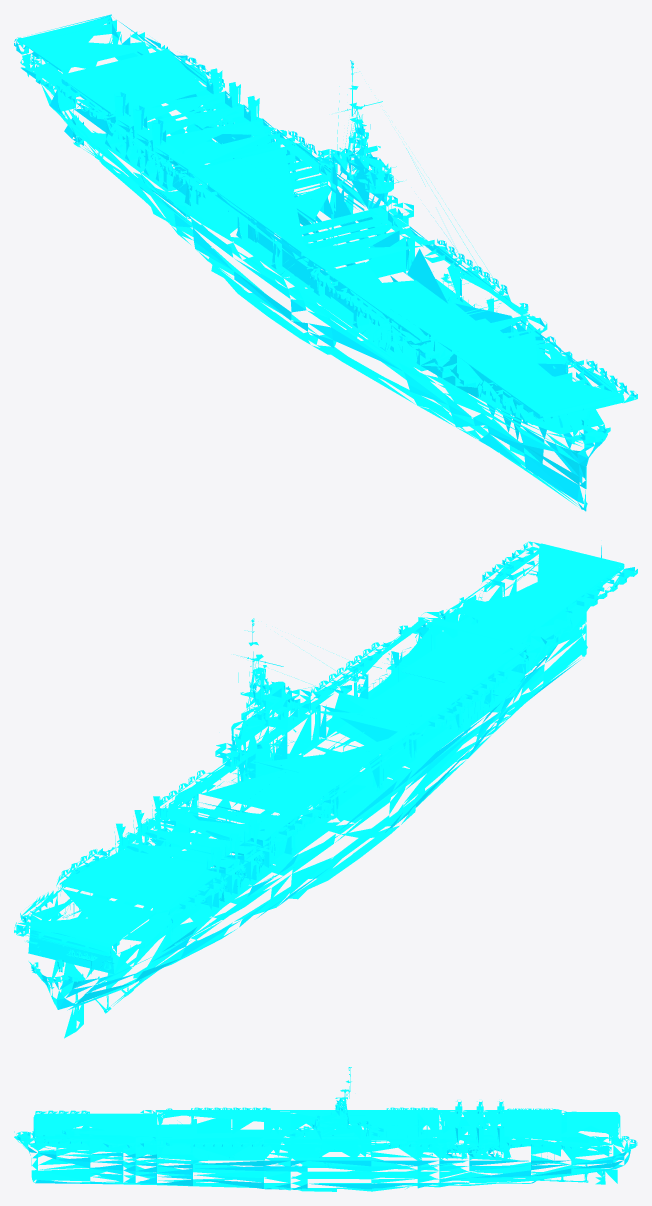
Rendered from Ranger.glb.
3 views of the same model, one above another, from view 1: azimuth 30°, elevation 25°; view 2: azimuth 150°, elevation 25°; view 3: azimuth 270°, elevation 25° (orthographic). The views are drawn at different scales.
Size of the model in its own units: 2.37 by 3.63 by 15.72.
